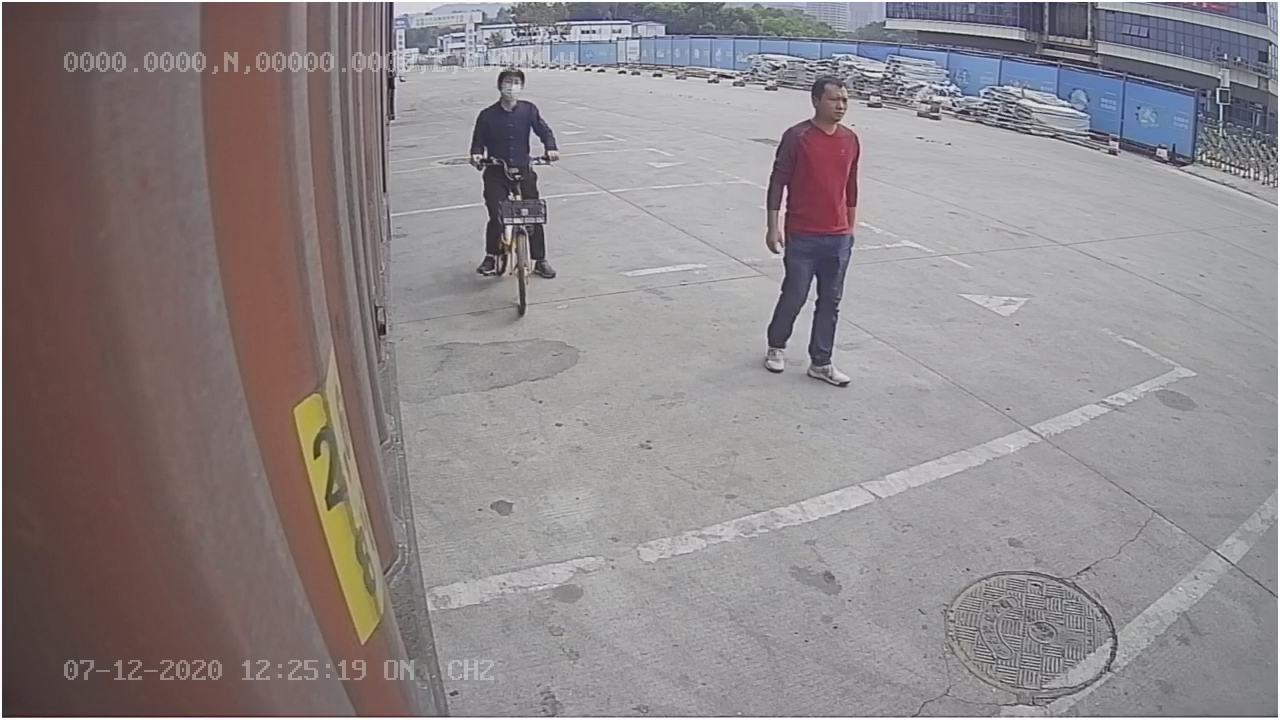person: (757, 69, 868, 391)
